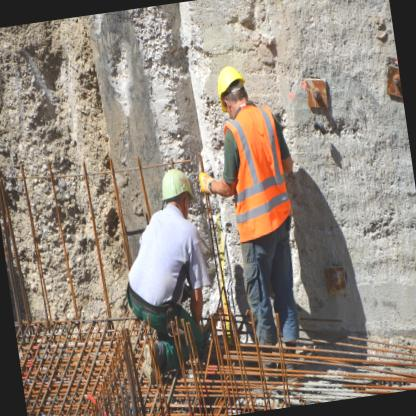capacete: (154, 164, 198, 222), (212, 60, 253, 120)
colete_refletivo: (215, 100, 298, 244)
sem_colete_refletivo: (114, 198, 212, 304)
